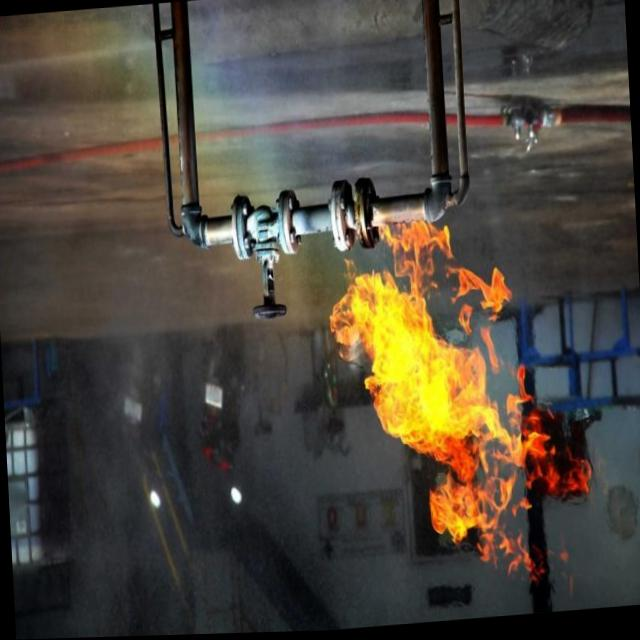leak: (331, 223, 553, 573)
